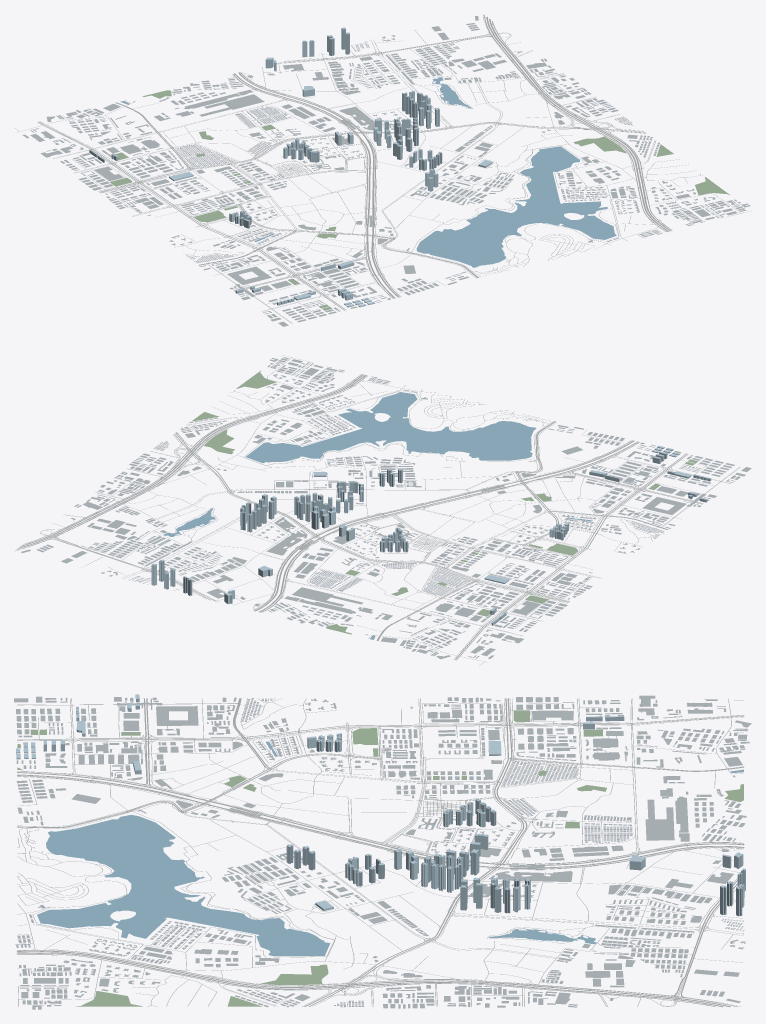
Rendered from overview-known--6_4.glb.
3 renders of one model, top to bottom at view 1: azimuth 30°, elevation 25°; view 2: azimuth 150°, elevation 25°; view 3: azimuth 270°, elevation 25°, orthographic. The views are drawn at different scales.
Size of the model in its own units: 4072 by 166 by 4043.
